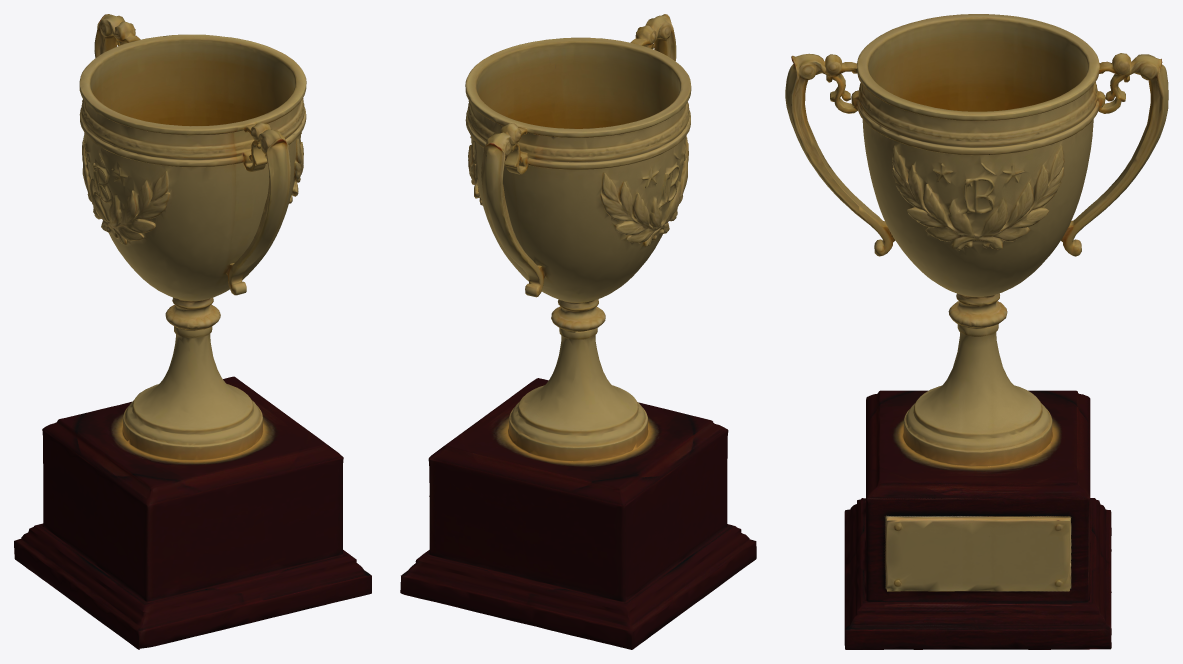
Rendered from trophy.glb.
3 renders of one model, left to right at view 1: azimuth 30°, elevation 25°; view 2: azimuth 150°, elevation 25°; view 3: azimuth 270°, elevation 25°, orthographic. The views are drawn at different scales.
Visible parts, largest first — view 1: tripo_node_62699edf-62ce-489b-92b2-aab24e1dbe3e; view 2: tripo_node_62699edf-62ce-489b-92b2-aab24e1dbe3e; view 3: tripo_node_62699edf-62ce-489b-92b2-aab24e1dbe3e.
Part boxes in pixels (left/top/right/bottom): tripo_node_62699edf-62ce-489b-92b2-aab24e1dbe3e: left=14, top=14, right=371, bottom=649; tripo_node_62699edf-62ce-489b-92b2-aab24e1dbe3e: left=400, top=14, right=756, bottom=649; tripo_node_62699edf-62ce-489b-92b2-aab24e1dbe3e: left=785, top=14, right=1168, bottom=649.
Bounding box in the file's own units: 0.4841 × 1 × 0.6475.
1 material, 1 textured.
